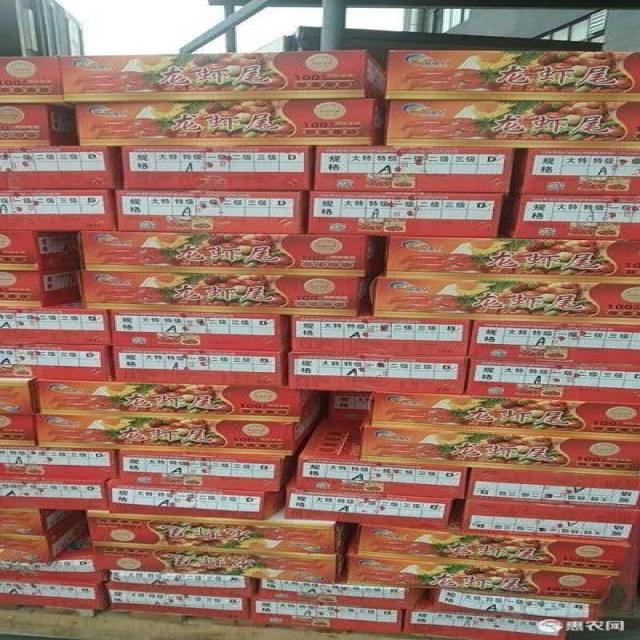box: (59, 50, 386, 103), (347, 539, 614, 602), (38, 402, 325, 456), (74, 98, 387, 146), (355, 522, 630, 576), (78, 231, 382, 278), (296, 418, 470, 499), (360, 426, 640, 476), (78, 271, 368, 317), (384, 50, 640, 102), (370, 392, 640, 441), (371, 278, 640, 325), (35, 378, 322, 422), (386, 100, 640, 149), (386, 236, 640, 283), (86, 510, 341, 554), (91, 542, 344, 584), (283, 473, 453, 528), (314, 146, 514, 192), (309, 191, 504, 238), (120, 145, 314, 190), (117, 189, 309, 234), (107, 310, 291, 353), (469, 320, 640, 366), (291, 315, 470, 358), (461, 499, 640, 542), (466, 360, 640, 404), (467, 466, 640, 510), (118, 450, 298, 492), (290, 354, 469, 394), (112, 346, 286, 387), (106, 480, 283, 520), (405, 602, 570, 639), (512, 193, 640, 240), (429, 589, 605, 623), (2, 531, 109, 585), (251, 597, 405, 634), (522, 148, 640, 196), (0, 146, 120, 190), (261, 578, 426, 610), (0, 189, 117, 230), (109, 589, 251, 620), (0, 512, 86, 562), (0, 307, 110, 346), (0, 446, 117, 482), (0, 344, 112, 381), (107, 571, 261, 596), (0, 56, 70, 108), (0, 478, 107, 511), (2, 578, 107, 611), (0, 105, 78, 146), (0, 266, 78, 307), (0, 231, 78, 271), (0, 508, 82, 535)
